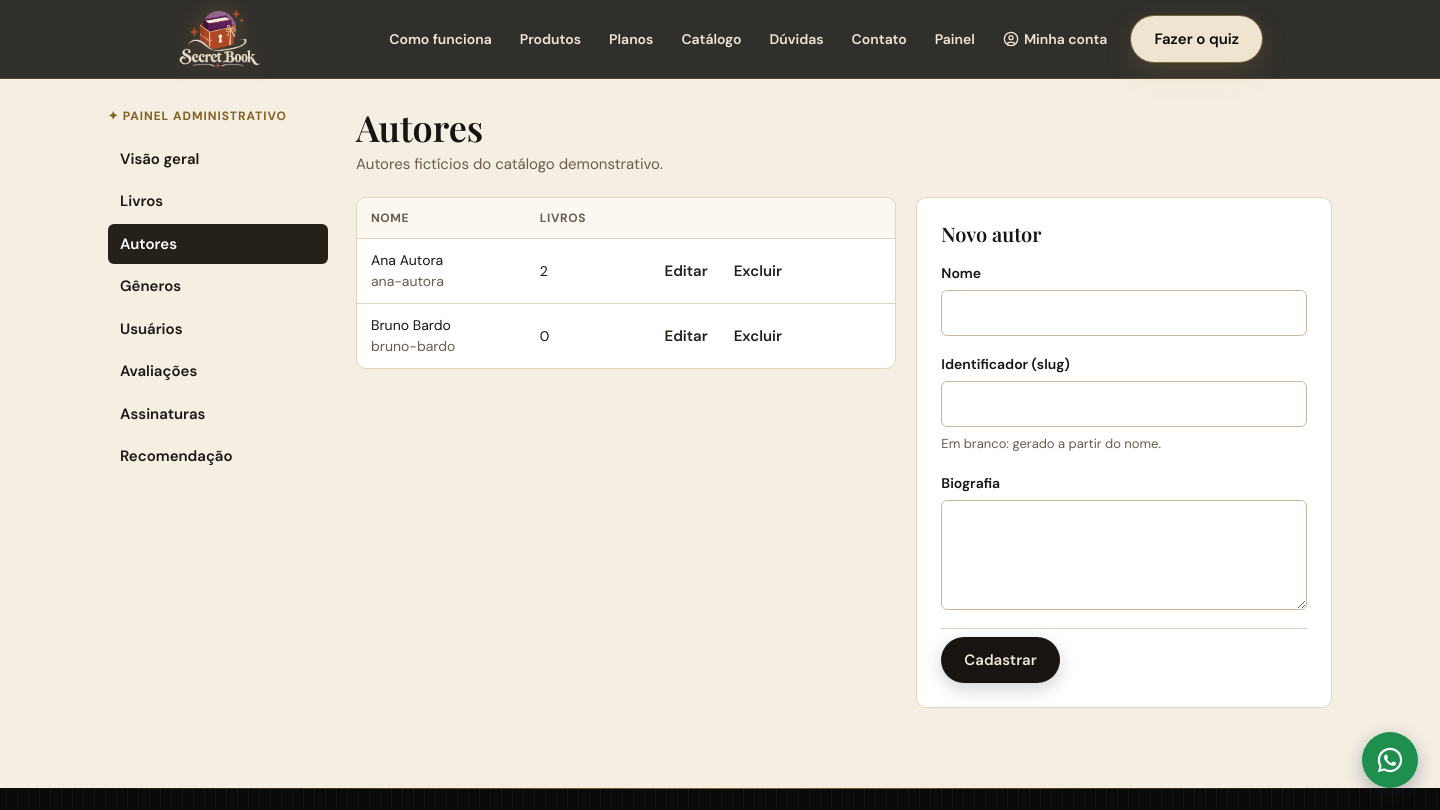
Scenario: Painel: autores › cadastra um autor e recarrega a lista
This screenshot has width=1440, height=810.
Check: the cell "Ana Autora ana-autora" is shown, box [357,239,526,304]
Type "Clara Cometa" into the field labelled "Nome". click: (1124, 313)
box: [941,290,1307,336]
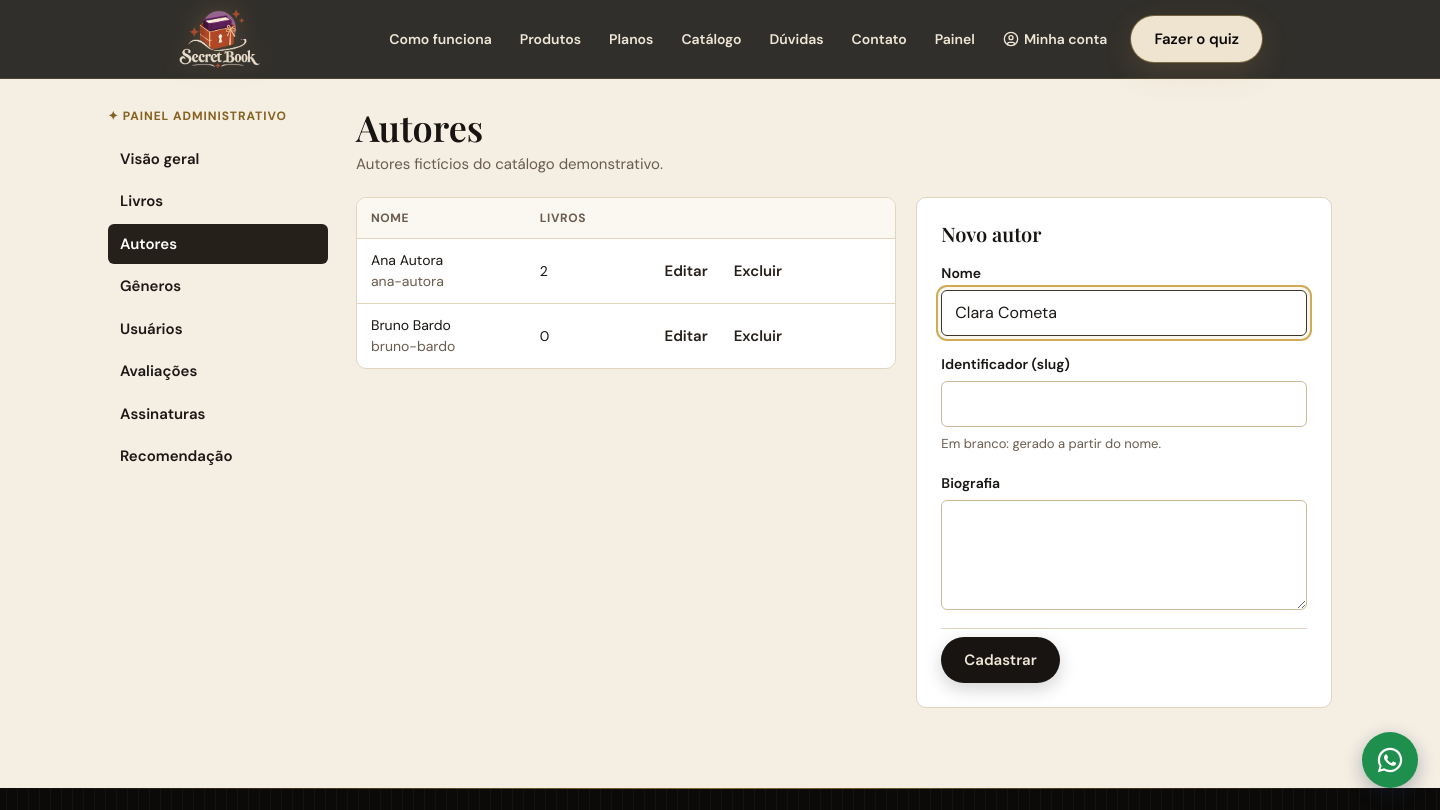
Type "Escreve ficção científica." into the text box labelled "Biografia". click: (1124, 555)
box: [941,500,1307,610]
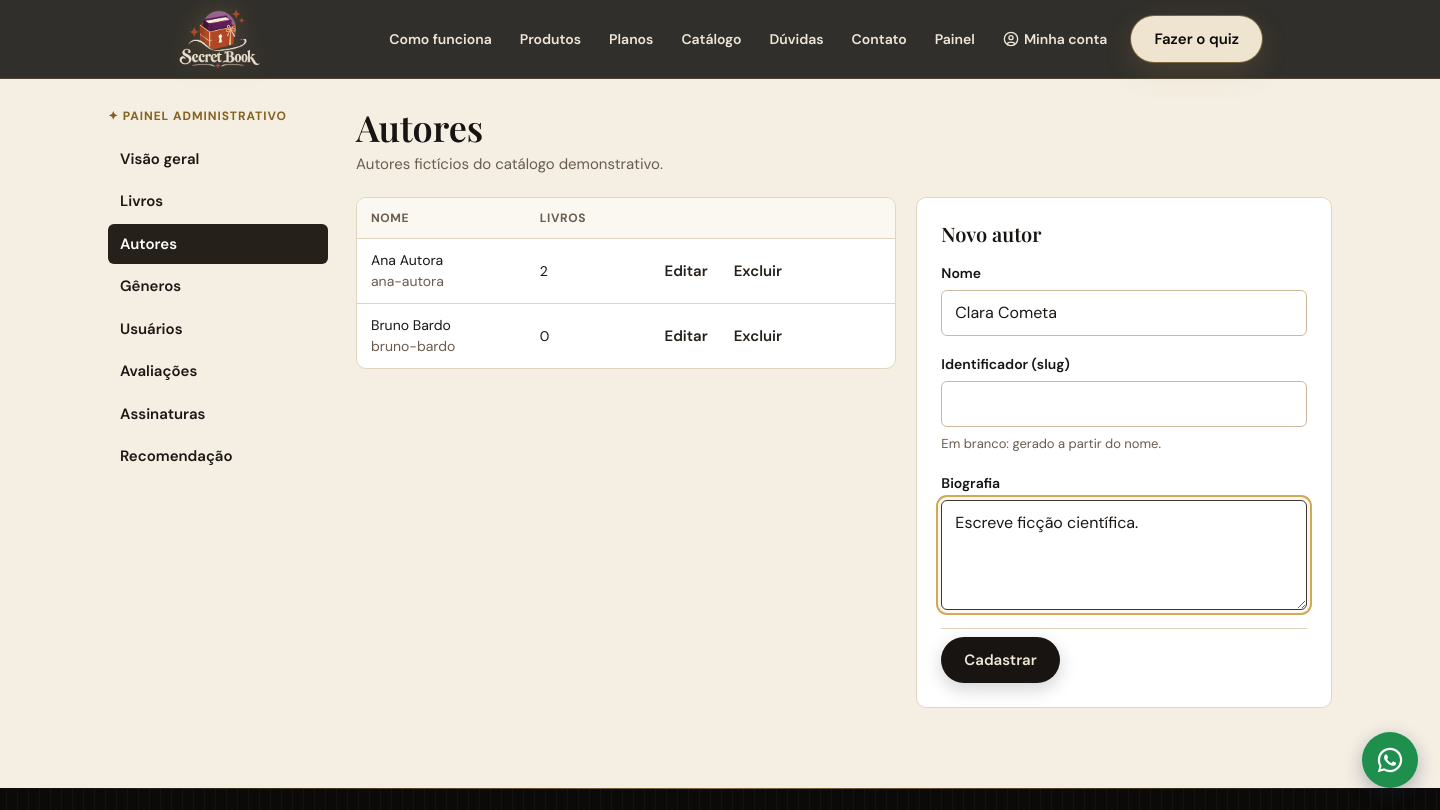
Click the button "Cadastrar". click: (1000, 660)
box: [941,637,1060,683]
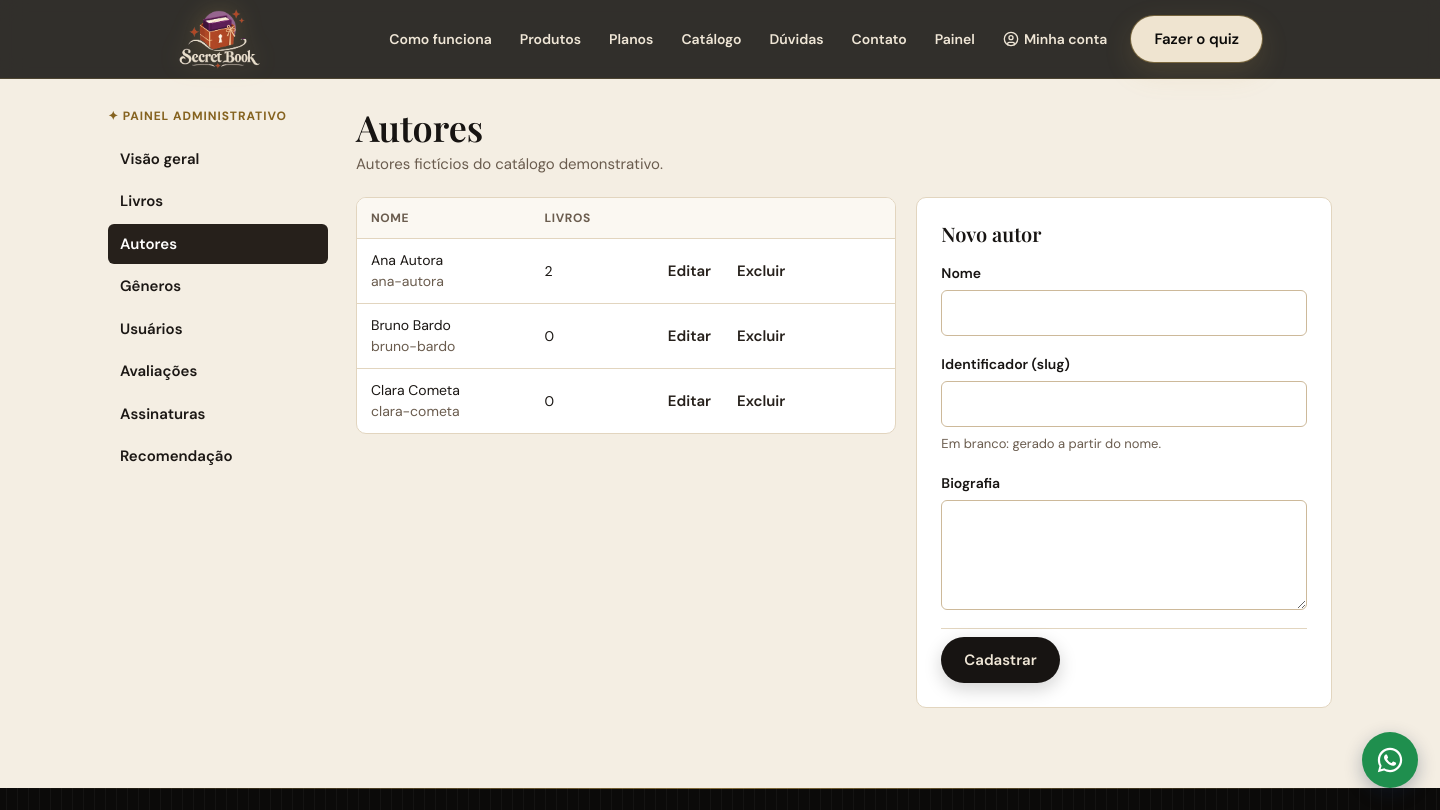
Check: the cell "Clara Cometa clara-cometa" is shown, box [357,369,531,433]
Check: the field labelled "Nome" is empty, box [941,290,1307,336]
